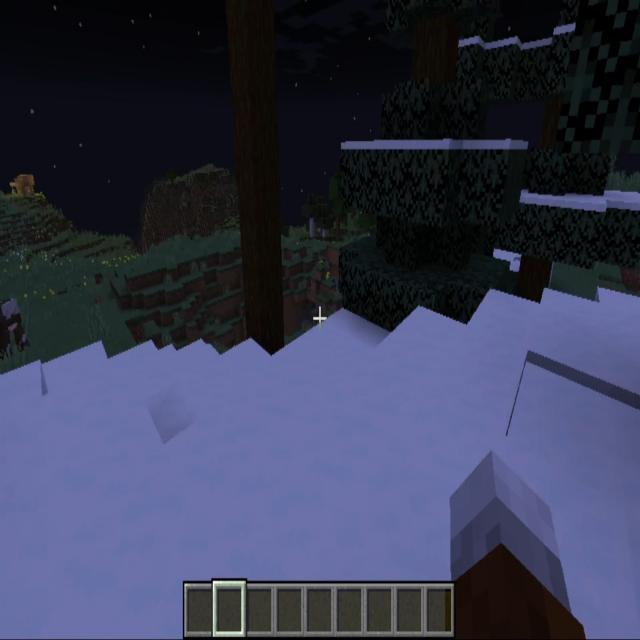Cow: (0, 292, 25, 361)
